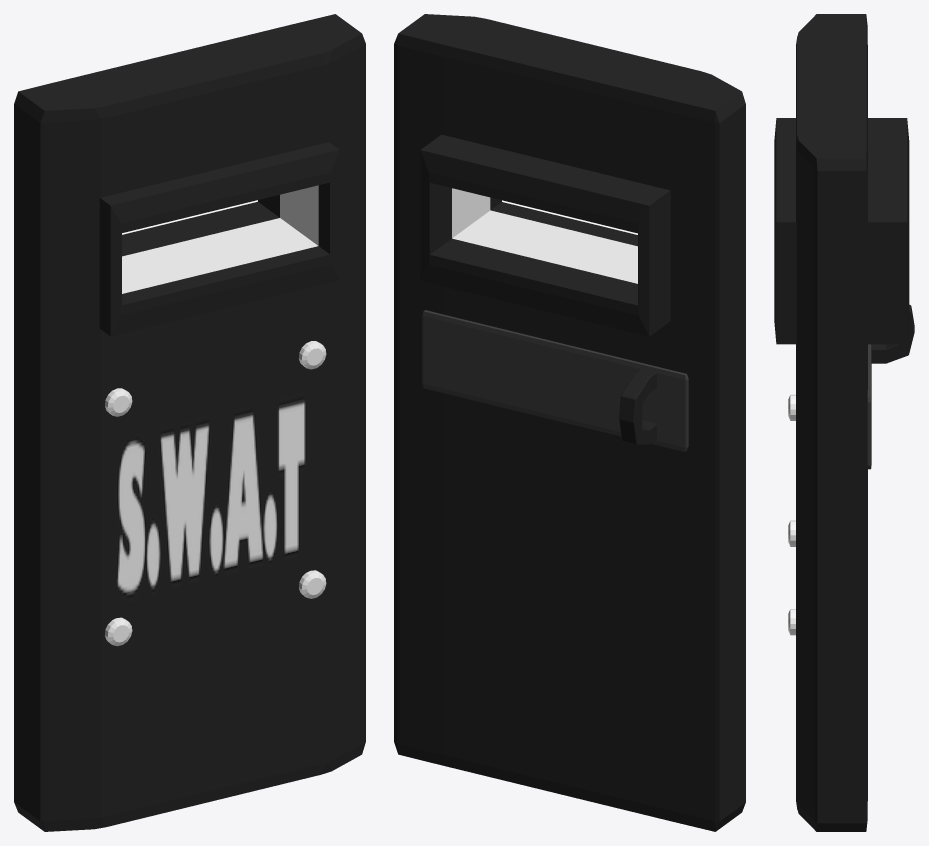
File: s.w.a.t_shield__lowpoly.glb
3 renders of one model, left to right at view 1: azimuth 30°, elevation 25°; view 2: azimuth 150°, elevation 25°; view 3: azimuth 270°, elevation 25°, orthographic. The views are drawn at different scales.
Parts seen in each view (by area): view 1: Shield; view 2: Shield; view 3: Shield.
Boxes of the visible parts, x1,y1,x2,y2 form: Shield: [14, 14, 365, 831]; Shield: [394, 14, 745, 831]; Shield: [774, 14, 914, 831].
Bounding box in the file's own units: 1.03 × 2.18 × 0.4109.
Materials: 1 (1 with a texture image).
